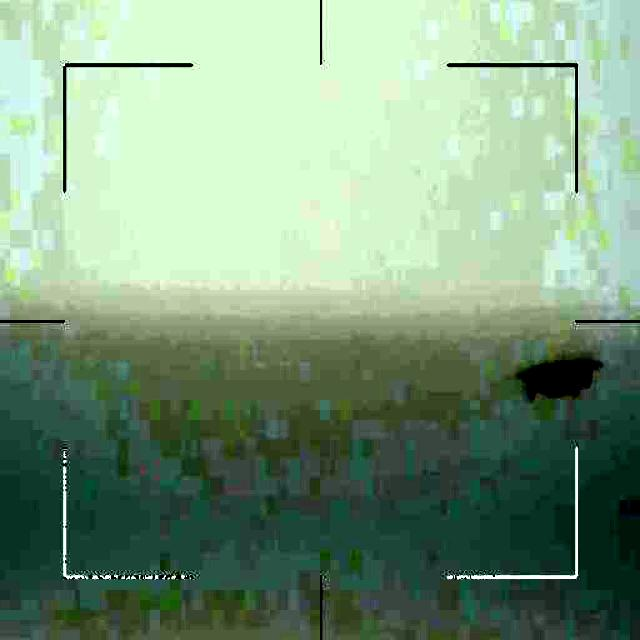bird: (525, 360, 591, 405)
